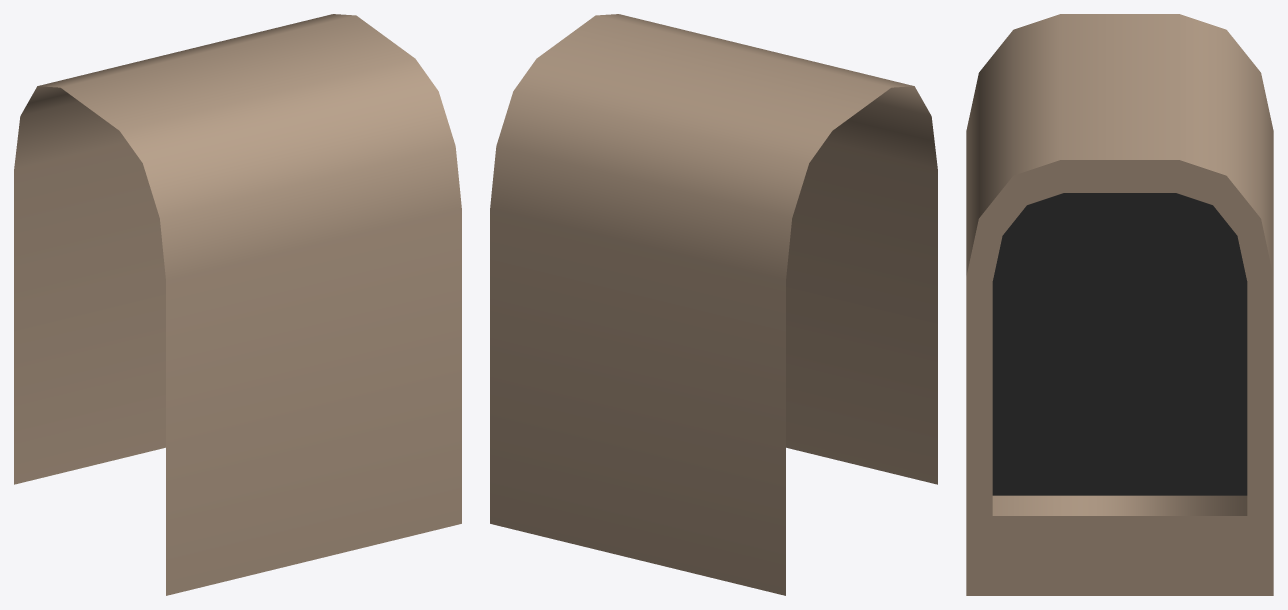
The model's file is DesertRaceDoor.fbx.
3 renders of one model, left to right at view 1: azimuth 30°, elevation 25°; view 2: azimuth 150°, elevation 25°; view 3: azimuth 270°, elevation 25°, orthographic.
Parts seen in each view (by area): view 1: HouseDoor; view 2: HouseDoor; view 3: HouseDoor.
Part boxes in pixels (x1,y1,x2,y2): HouseDoor: [14, 14, 461, 595]; HouseDoor: [490, 14, 937, 595]; HouseDoor: [966, 14, 1273, 595].
Bounding box in the file's own units: 3.46 × 3.08 × 4.82.
